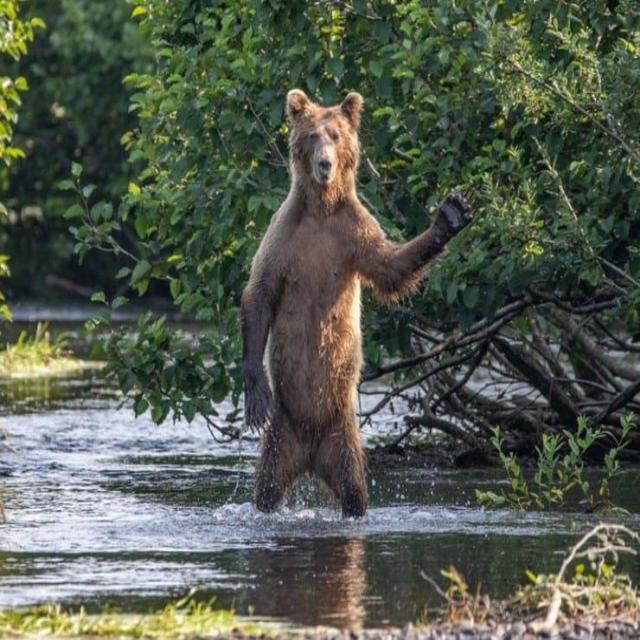Bear: (240, 90, 474, 521)
